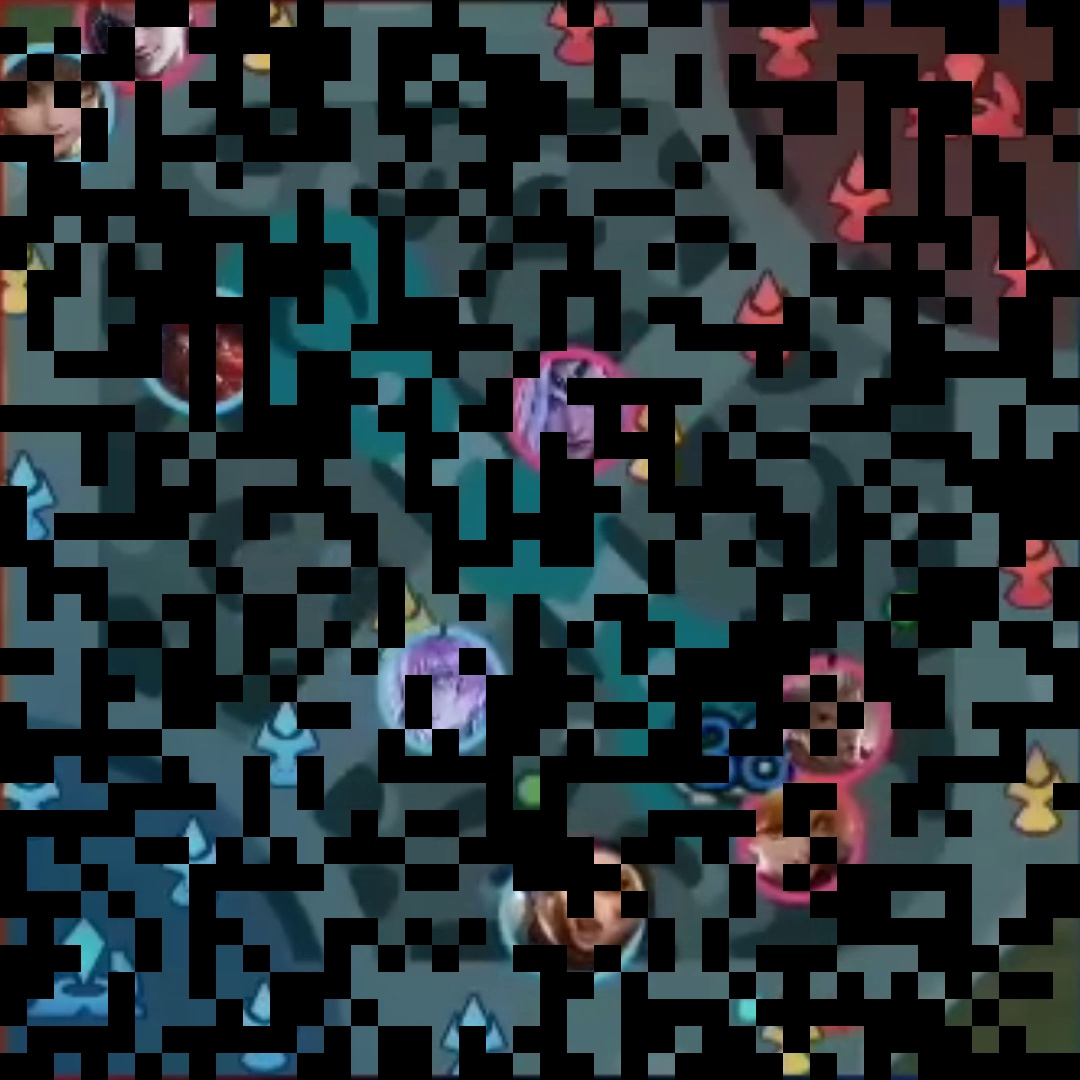Chou: (790, 672, 875, 765)
Claude: (104, 1, 183, 75)
Fanny: (761, 800, 839, 886)
Masha: (558, 856, 633, 945)
Minotaur: (159, 303, 241, 394)
Novaria: (399, 649, 486, 735)
Valentina: (527, 364, 615, 457)
Wanwan: (13, 60, 99, 154)
